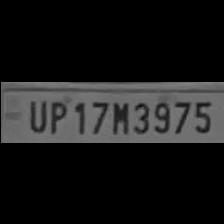1: (68, 96, 86, 134)
3: (130, 96, 150, 134)
5: (190, 97, 212, 132)
7: (85, 96, 107, 134), (170, 96, 190, 134)
9: (150, 96, 170, 134)
M: (108, 97, 130, 135)
P: (44, 96, 68, 134)
U: (24, 96, 46, 130)
